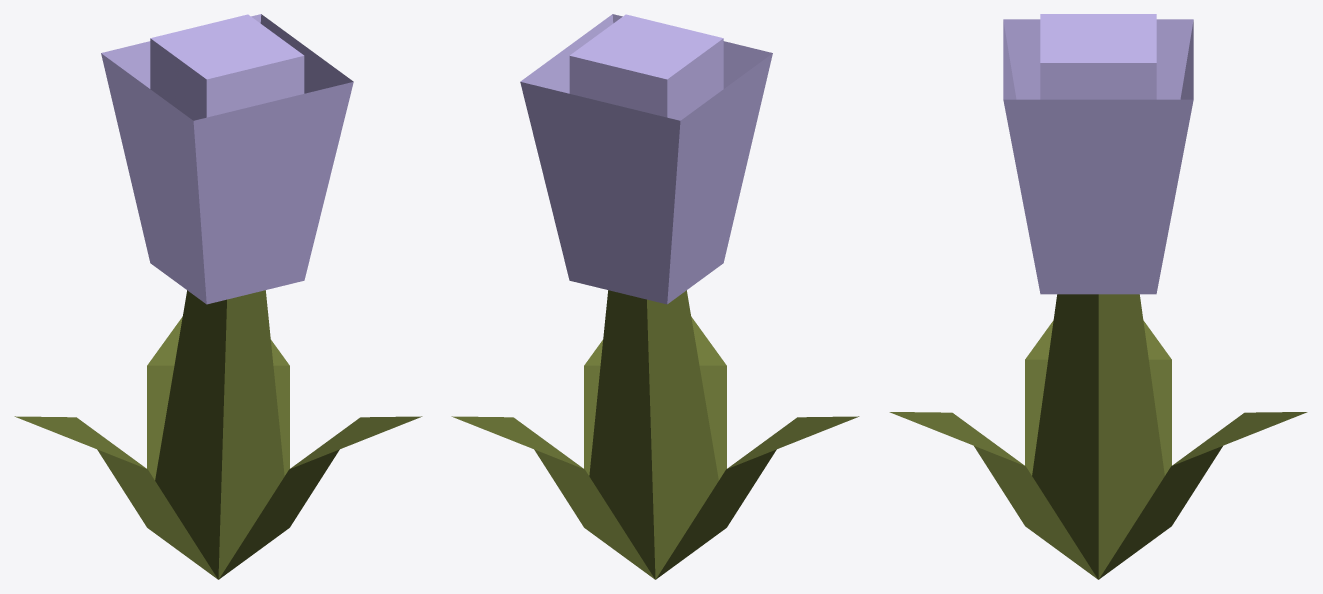
Rendered from fleur-violette.glb.
3 views of the same model, side by side, from view 1: azimuth 30°, elevation 25°; view 2: azimuth 150°, elevation 25°; view 3: azimuth 270°, elevation 25° (orthographic). The views are drawn at different scales.
Parts seen in each view (by area): view 1: flower_purpleA; view 2: flower_purpleA; view 3: flower_purpleA.
Part boxes in pixels (x1=…): flower_purpleA: x1=14, y1=14, x2=422, y2=579; flower_purpleA: x1=451, y1=14, x2=859, y2=579; flower_purpleA: x1=889, y1=14, x2=1307, y2=579.
Size of the model in its own units: 0.328 by 0.5 by 0.3733.
